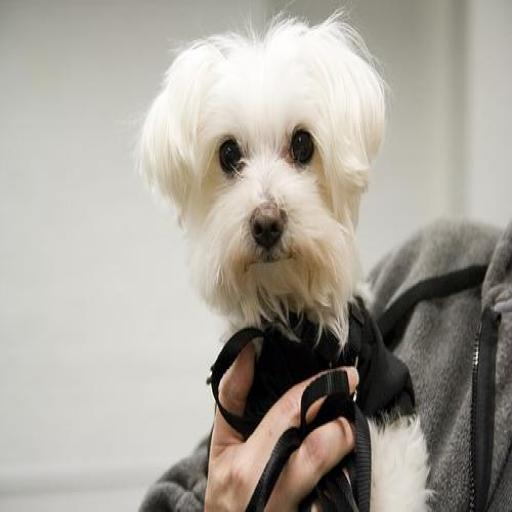dog_face: (145, 23, 384, 321)
